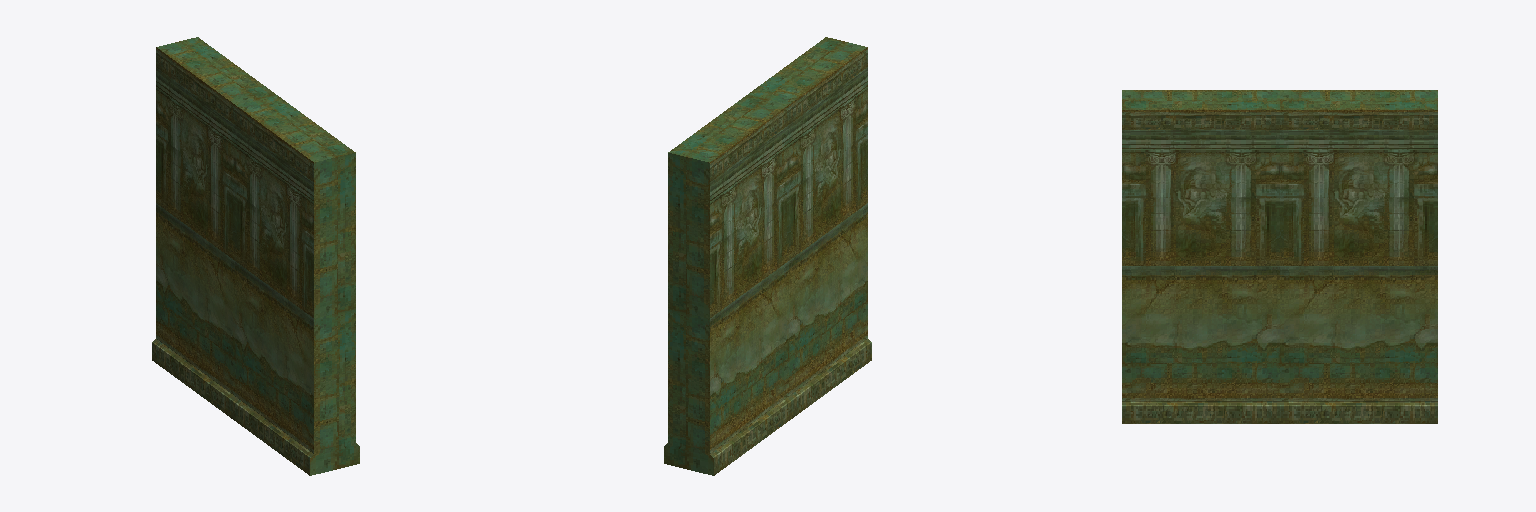
3 views of the same model, side by side, from view 1: azimuth 30°, elevation 25°; view 2: azimuth 150°, elevation 25°; view 3: azimuth 270°, elevation 25° (orthographic).
Visible parts, largest first — view 1: Geoset_000; view 2: Geoset_000; view 3: Geoset_000.
Part boxes in pixels (x1,y1,x2,y2): Geoset_000: (152, 37, 359, 475); Geoset_000: (664, 37, 871, 475); Geoset_000: (1122, 90, 1437, 423).
Size of the model in its own units: 7 by 42 by 38.5.
1 materials, 1 textured.